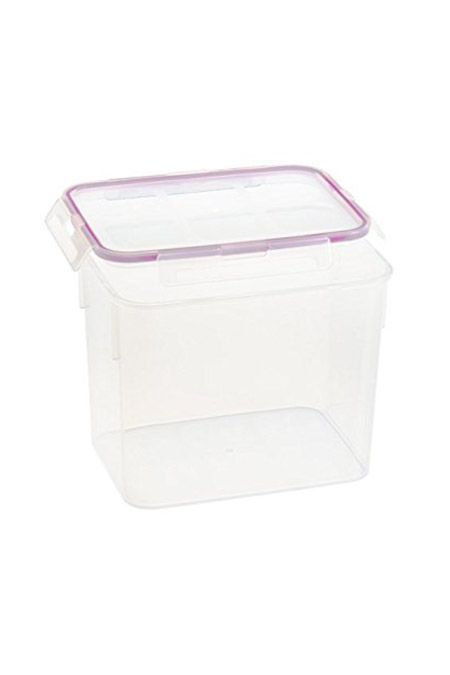PlasticBox: (38, 161, 399, 514)
